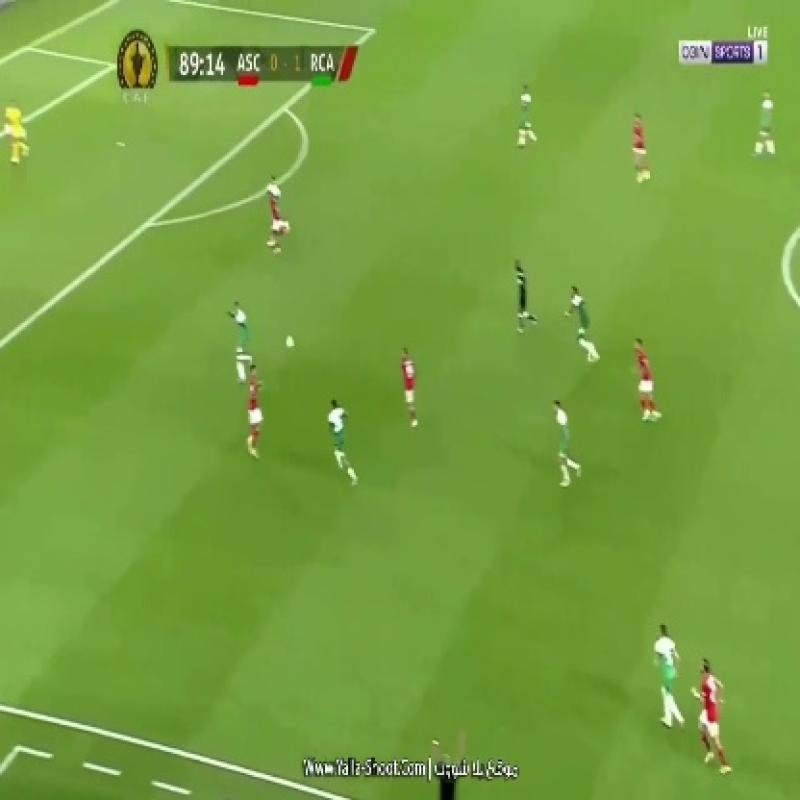10: (276, 100, 288, 117)
11: (140, 212, 158, 233)
3: (17, 36, 35, 57)
7: (103, 58, 116, 76)
9: (361, 21, 377, 44)
c: (774, 231, 799, 279)
